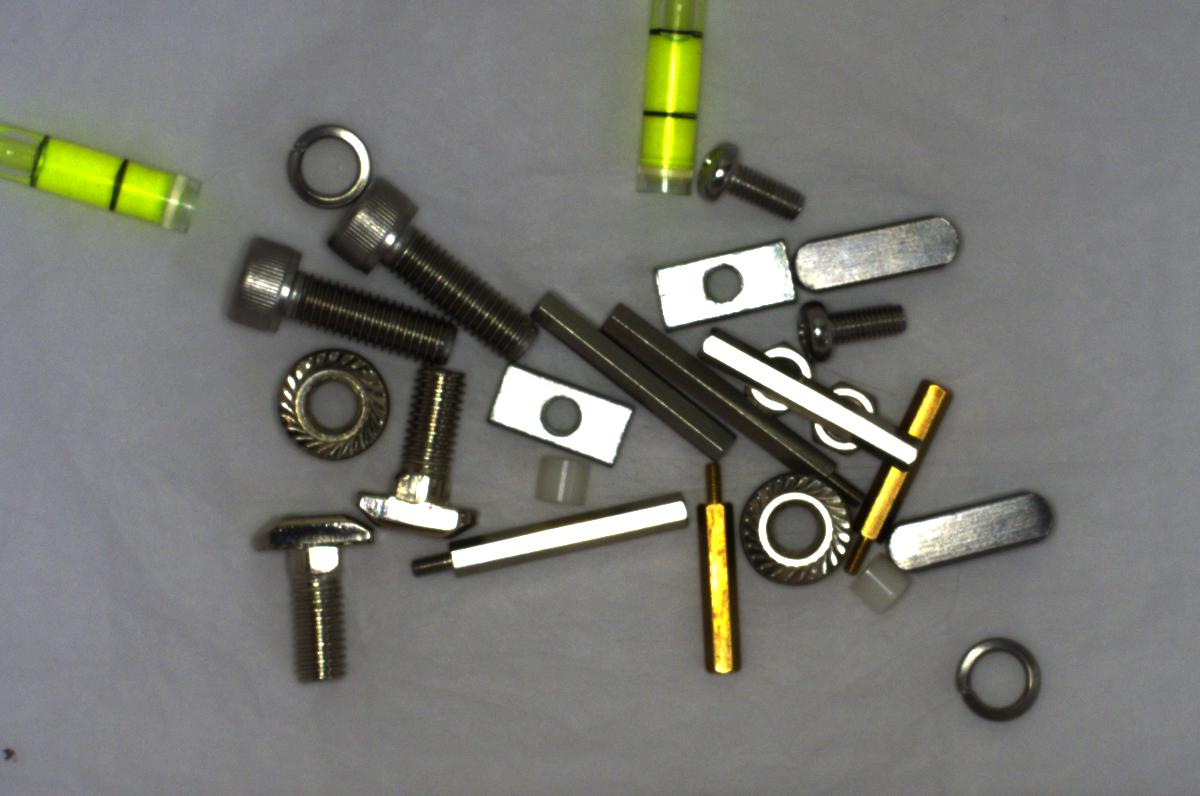Double hexagonal column: (529, 286, 738, 469), (698, 328, 926, 476)
Flange nut: (728, 462, 860, 589), (269, 341, 397, 464)
Hexagon pillar: (853, 371, 952, 564), (692, 463, 746, 678)
Hexagon screw: (335, 178, 534, 355), (211, 227, 451, 356)
Hexagonal steel column: (616, 305, 862, 505), (411, 494, 684, 582)
Horizontal bubble: (2, 109, 203, 239), (628, 4, 705, 206)
Keybar: (887, 491, 1066, 578), (794, 212, 978, 296)
Plastic cushion pillar: (528, 449, 607, 515), (850, 554, 919, 613)
Rectangular nut: (480, 363, 638, 467), (655, 240, 798, 326)
Round head screw: (678, 142, 812, 223), (788, 298, 923, 365)
Spring washer: (950, 624, 1048, 727), (283, 114, 375, 213)
T-shaped screw: (350, 365, 476, 558), (256, 490, 376, 685)
